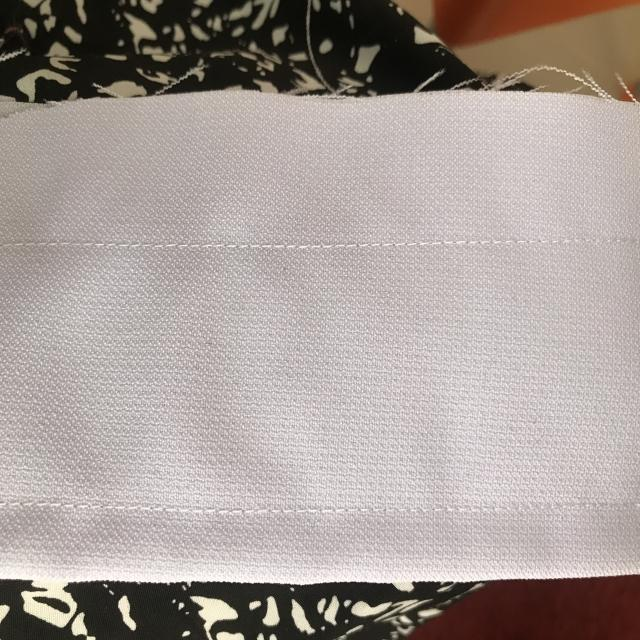good: (33, 230, 505, 256), (226, 498, 402, 532), (30, 485, 130, 524)
